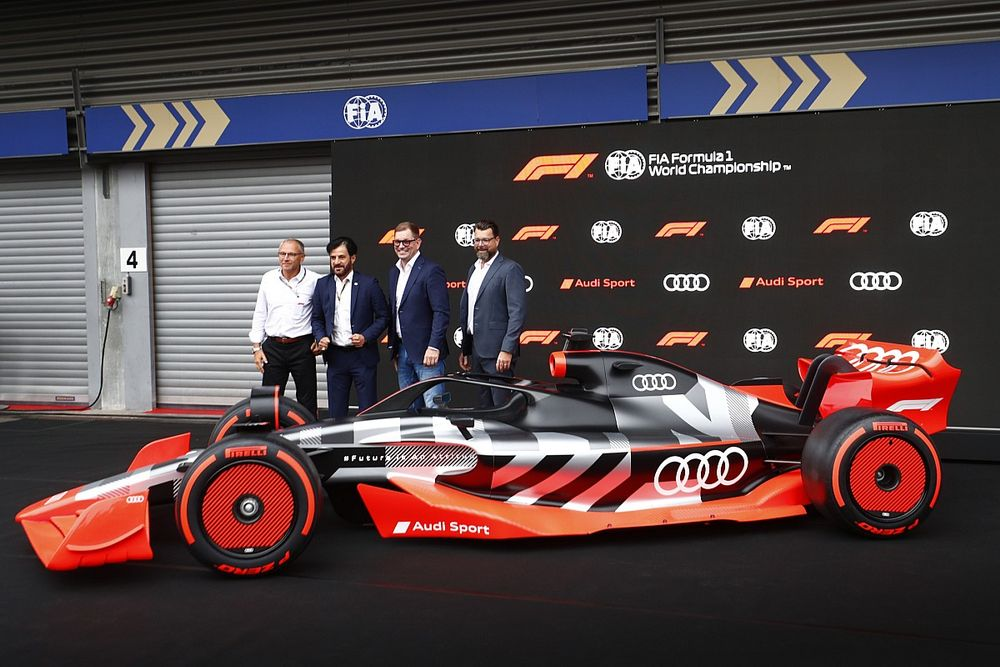Formule 1: (15, 339, 949, 578)
